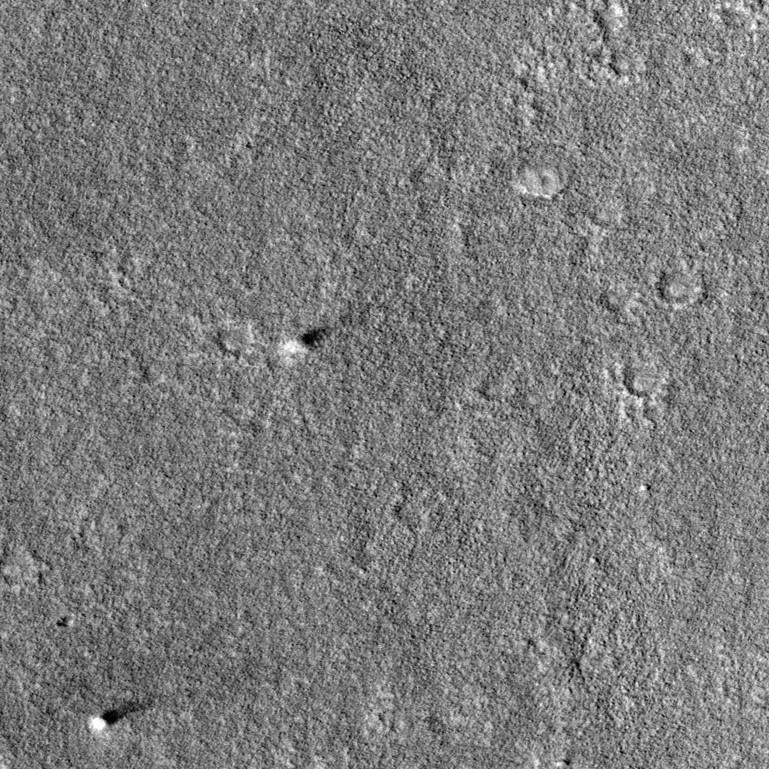dust_devil: (86, 692, 163, 735), (275, 324, 334, 361)
